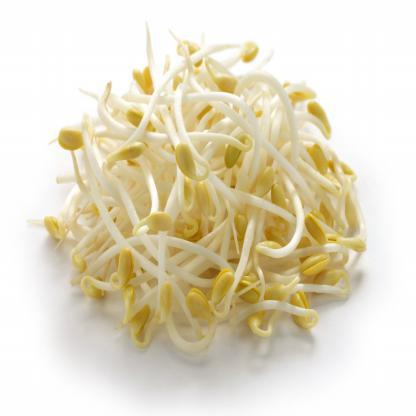bean sprouts: (62, 34, 378, 373)
